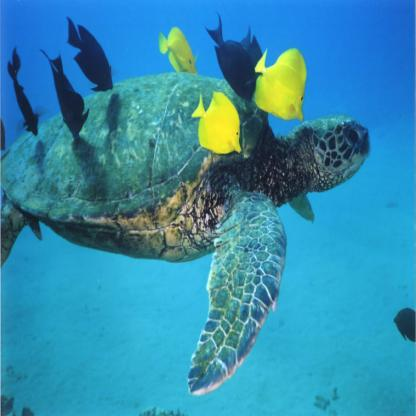turtle: (306, 110, 372, 196)
